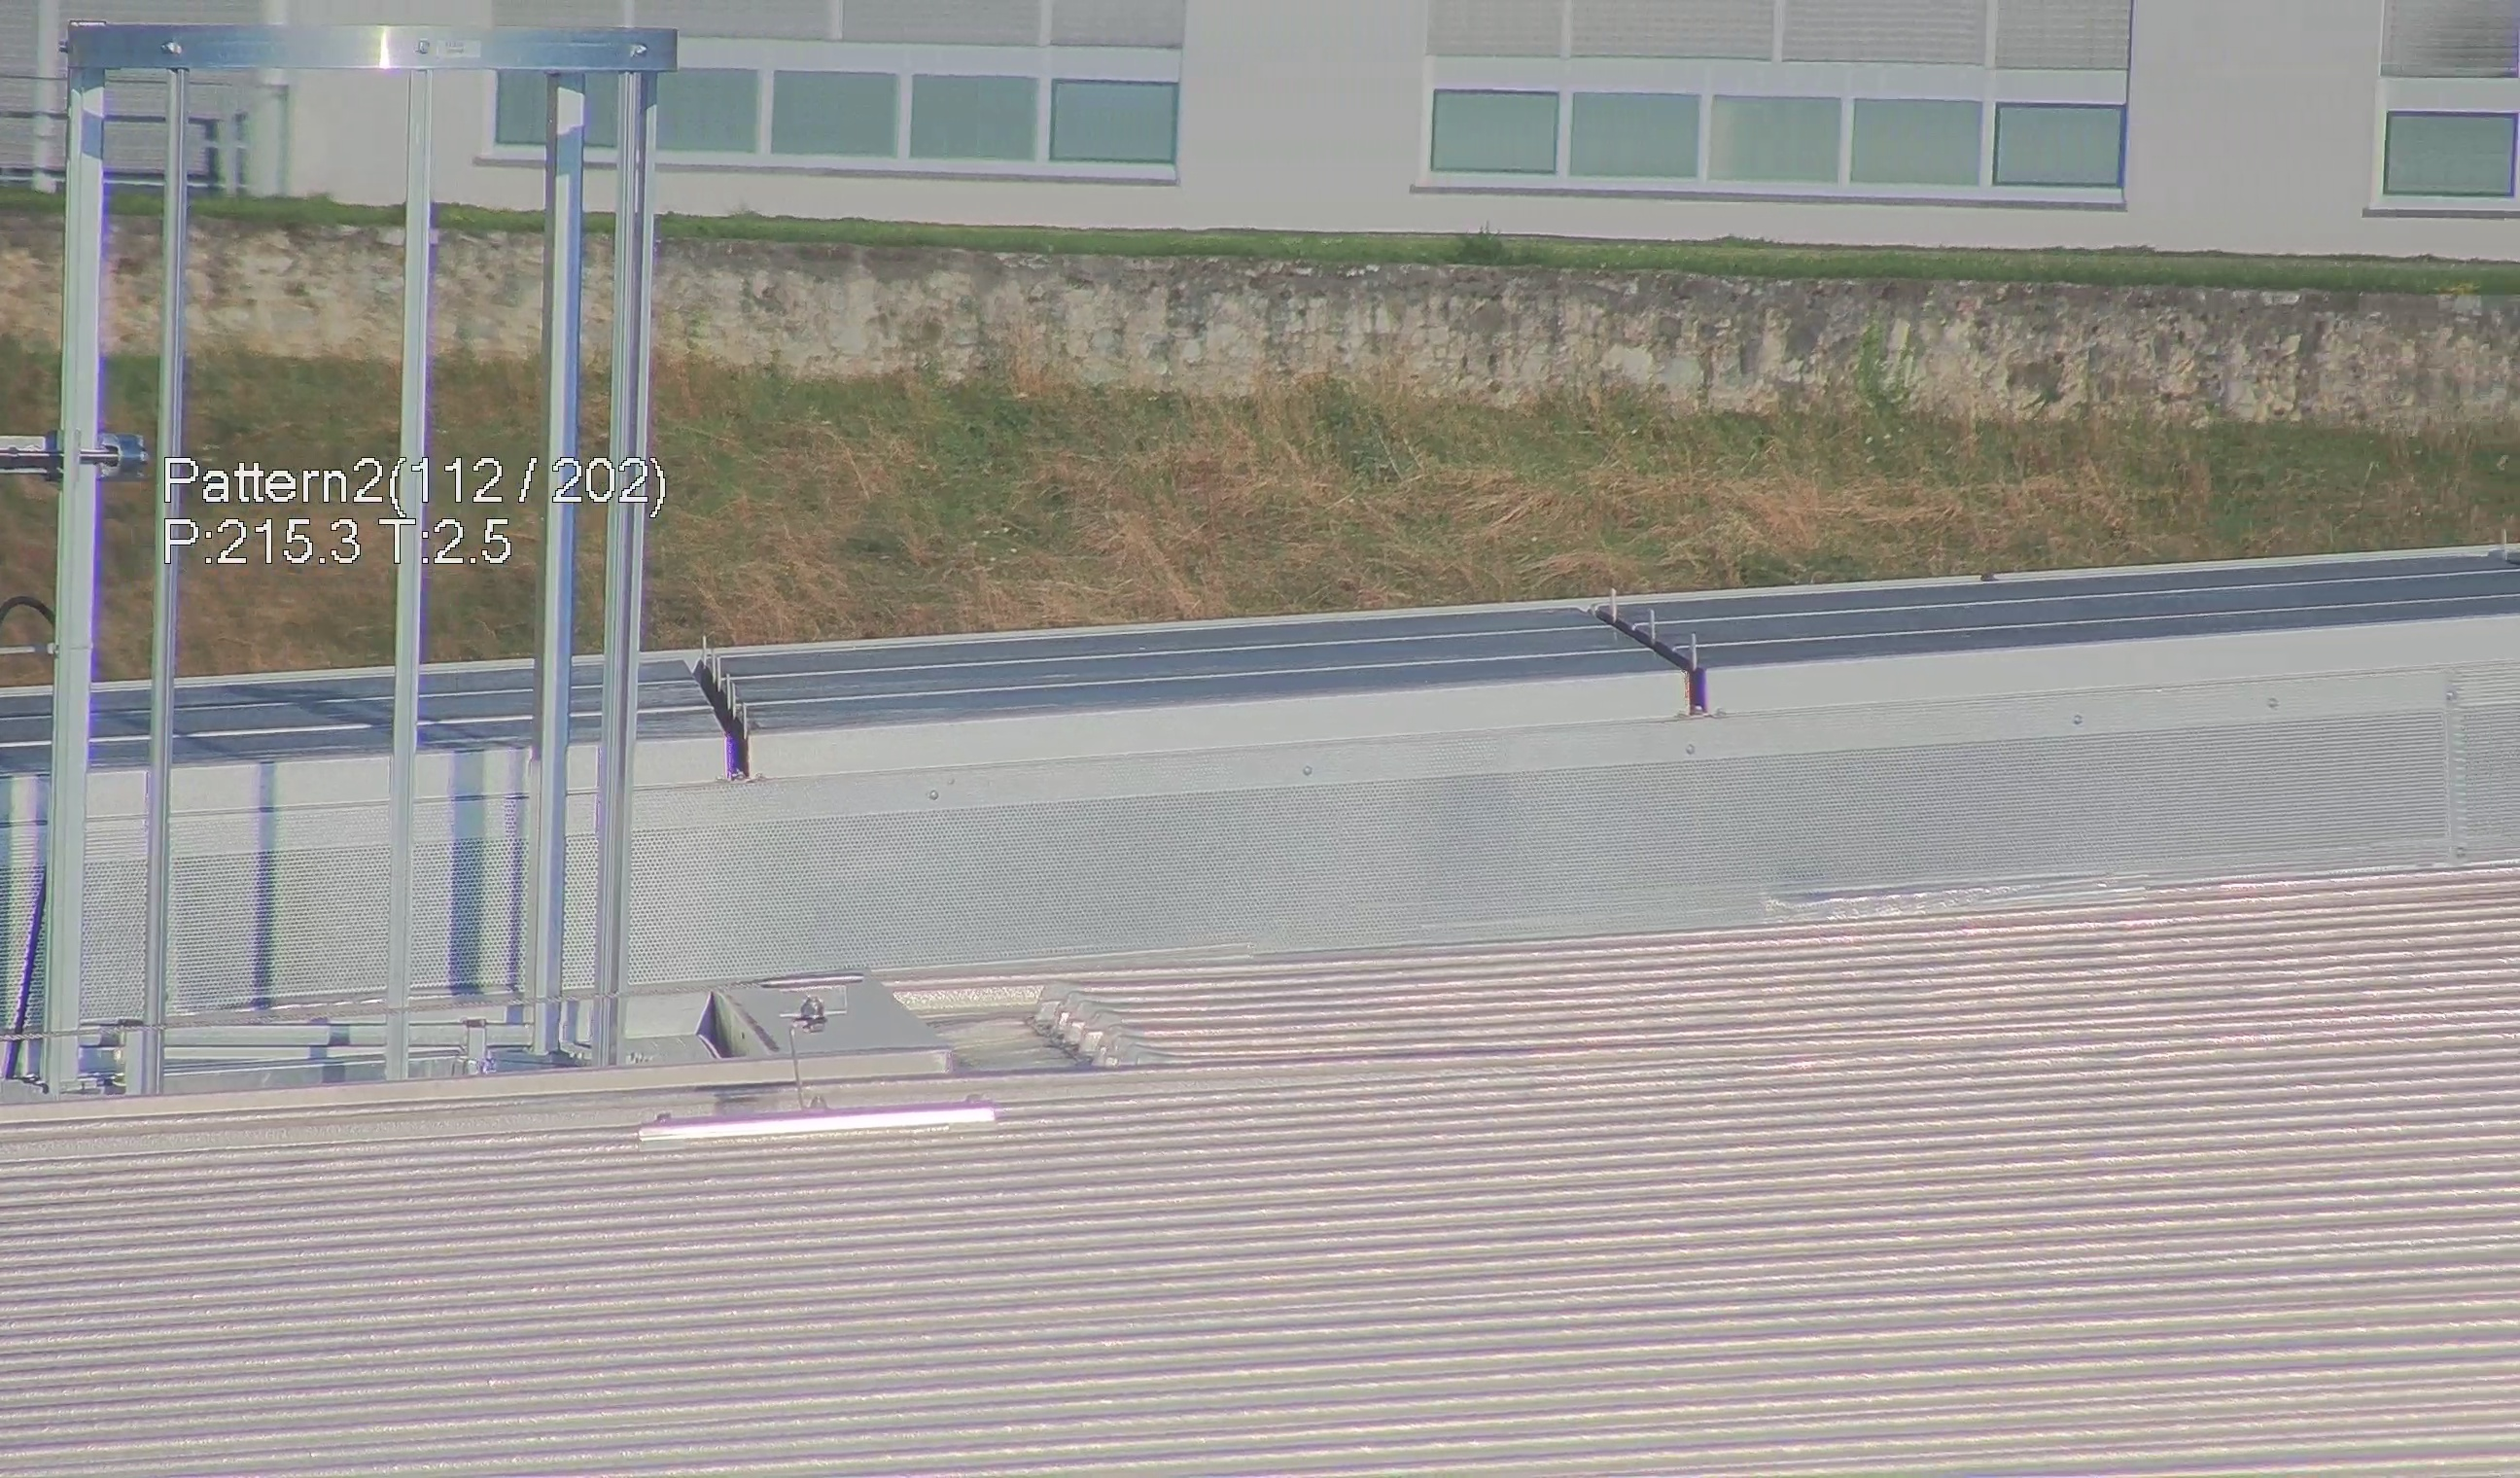Other: (661, 637, 765, 783)
